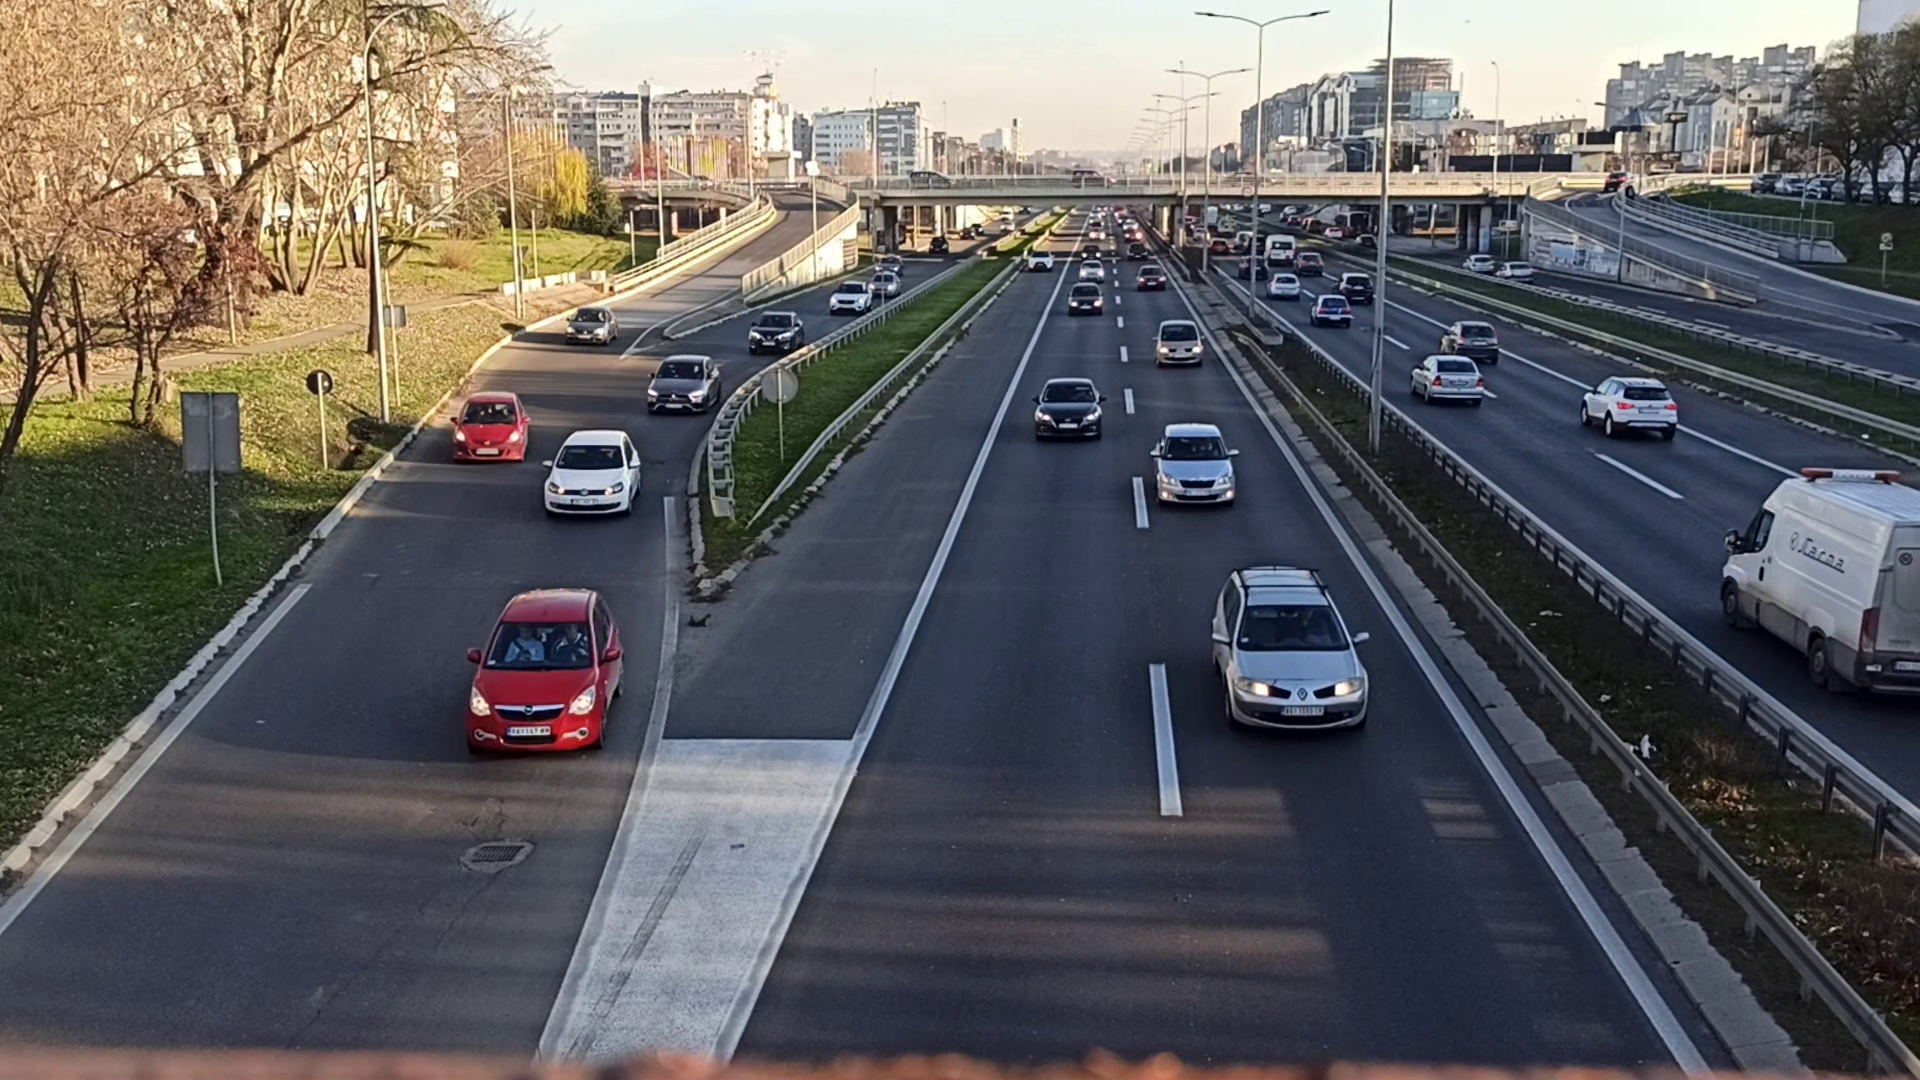car: (1203, 564, 1377, 742), (468, 585, 629, 756), (543, 425, 640, 520), (1150, 419, 1240, 514), (1575, 369, 1679, 442), (451, 392, 529, 462), (1031, 375, 1105, 443), (646, 345, 717, 414), (1410, 355, 1485, 407), (1153, 316, 1203, 368), (748, 311, 800, 359), (1440, 320, 1497, 359), (829, 280, 876, 315), (571, 307, 615, 343)
van: (1716, 465, 1920, 690)
